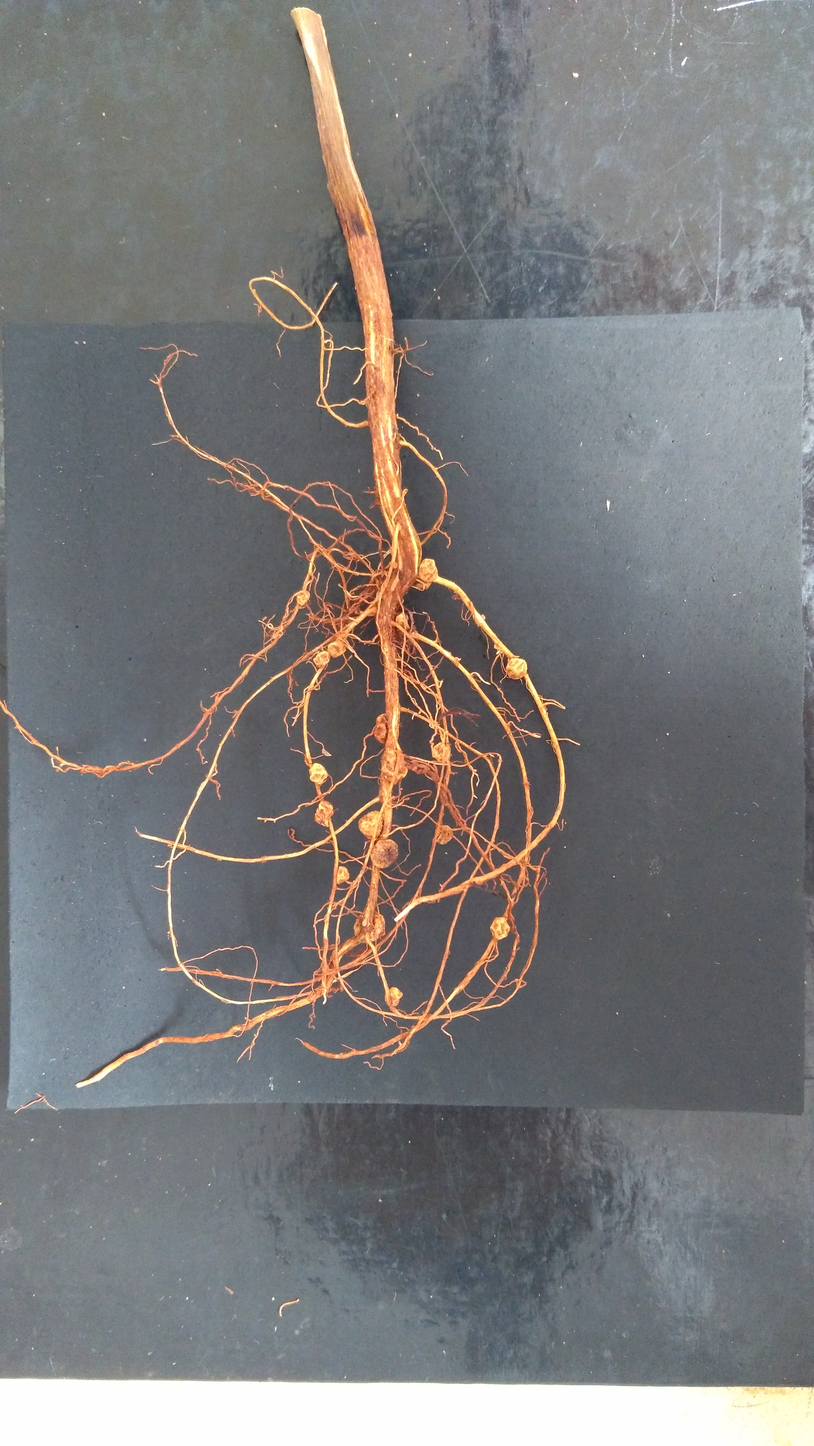nodule: (353, 911, 385, 943), (370, 839, 398, 868), (358, 811, 383, 840), (381, 763, 408, 785), (315, 800, 334, 827), (419, 558, 438, 583), (490, 917, 510, 940), (506, 658, 527, 679), (408, 760, 433, 776), (309, 763, 327, 784), (434, 825, 453, 844), (385, 987, 403, 1007), (432, 742, 449, 762), (395, 612, 410, 634), (327, 641, 346, 658), (374, 723, 387, 745), (313, 651, 329, 667), (376, 713, 388, 734), (337, 865, 349, 885), (297, 591, 310, 606), (406, 630, 418, 646), (416, 581, 432, 590), (386, 751, 396, 763), (367, 607, 378, 617), (402, 488, 408, 497), (392, 562, 398, 569), (454, 657, 460, 664), (340, 983, 344, 991), (481, 614, 485, 620), (400, 599, 404, 604)
